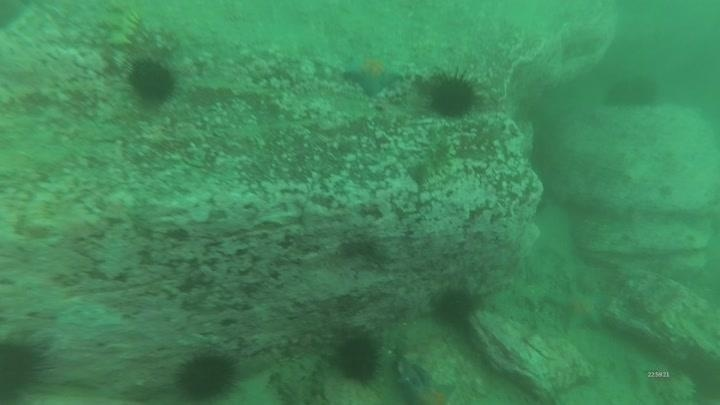echinus: (0, 333, 55, 403), (172, 348, 242, 402), (331, 330, 384, 386), (424, 69, 481, 121), (126, 56, 179, 106), (429, 282, 480, 328), (603, 72, 661, 111)
holothurian: (410, 128, 457, 186), (102, 4, 144, 50)
starfish: (544, 281, 611, 334), (342, 51, 405, 98), (396, 358, 459, 404)
